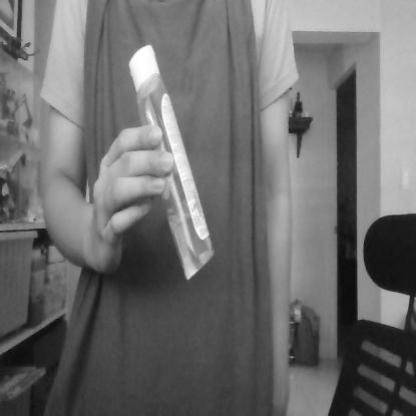Plastic Bottle: (122, 38, 221, 286)
